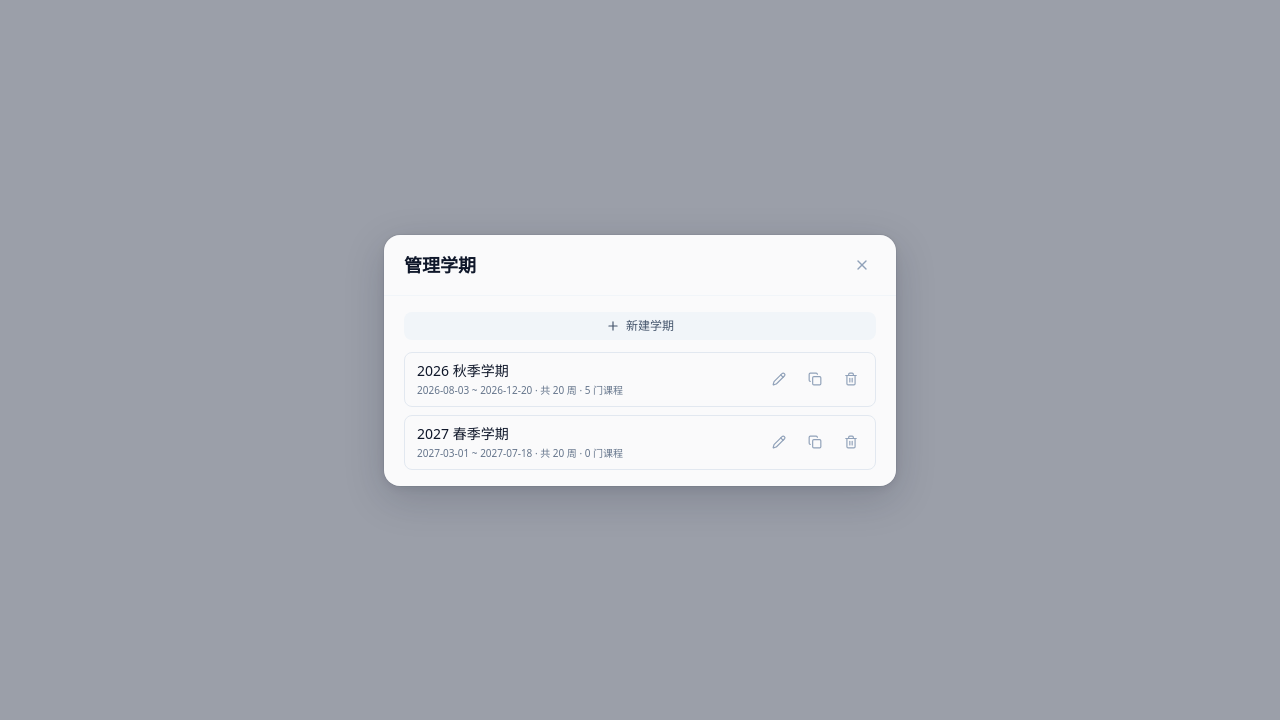
Scenario: SemesterManageDialog › 空表单保存提示错误
Click the button "新建学期" at [640, 326], box [404,312,876,340]
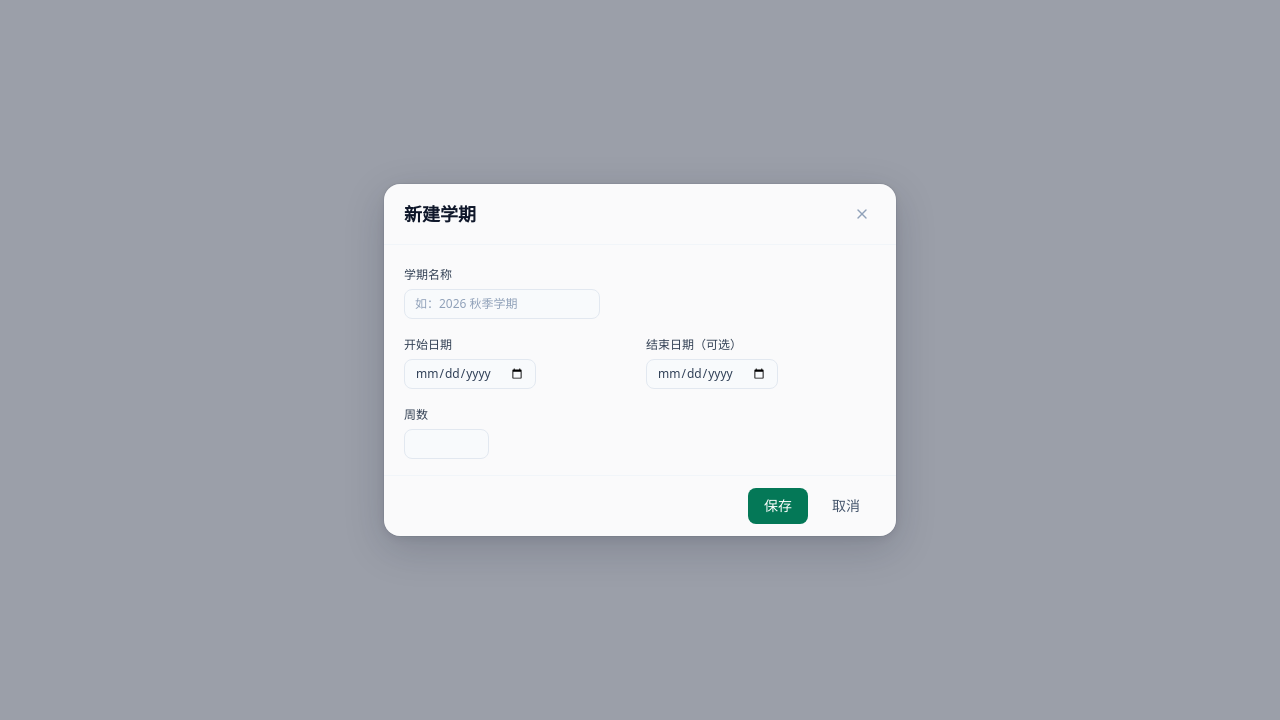
Click the button "保存" at [778, 506], box [748,488,808,524]
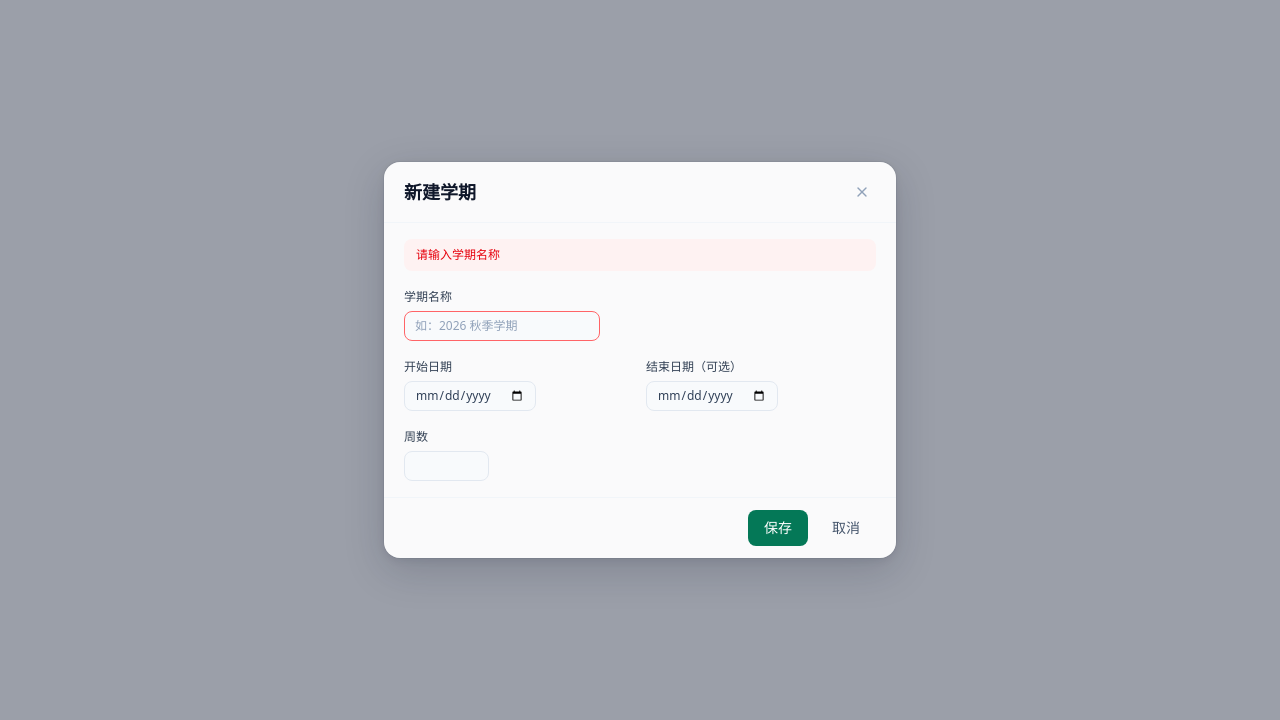
Expected: the text "请输入学期名称" is shown, [404,239,876,271]
